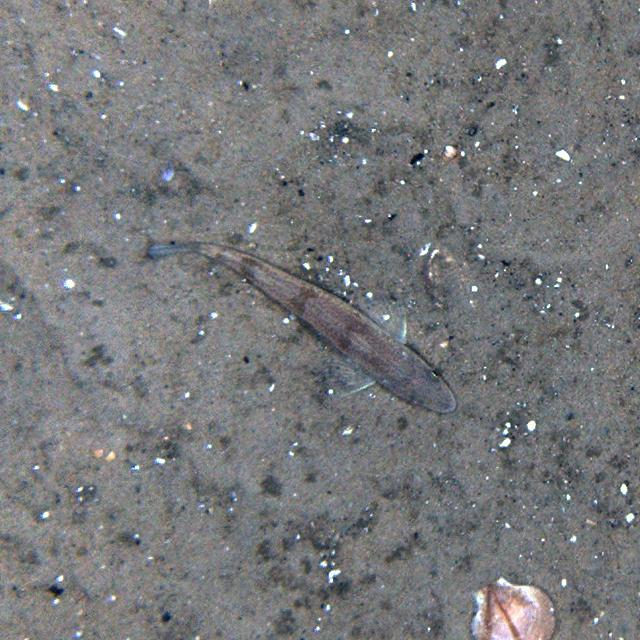roundfish: (141, 232, 467, 427)
